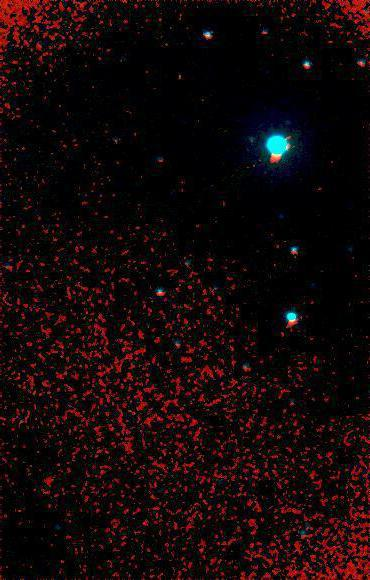star: (168, 62, 198, 92)
